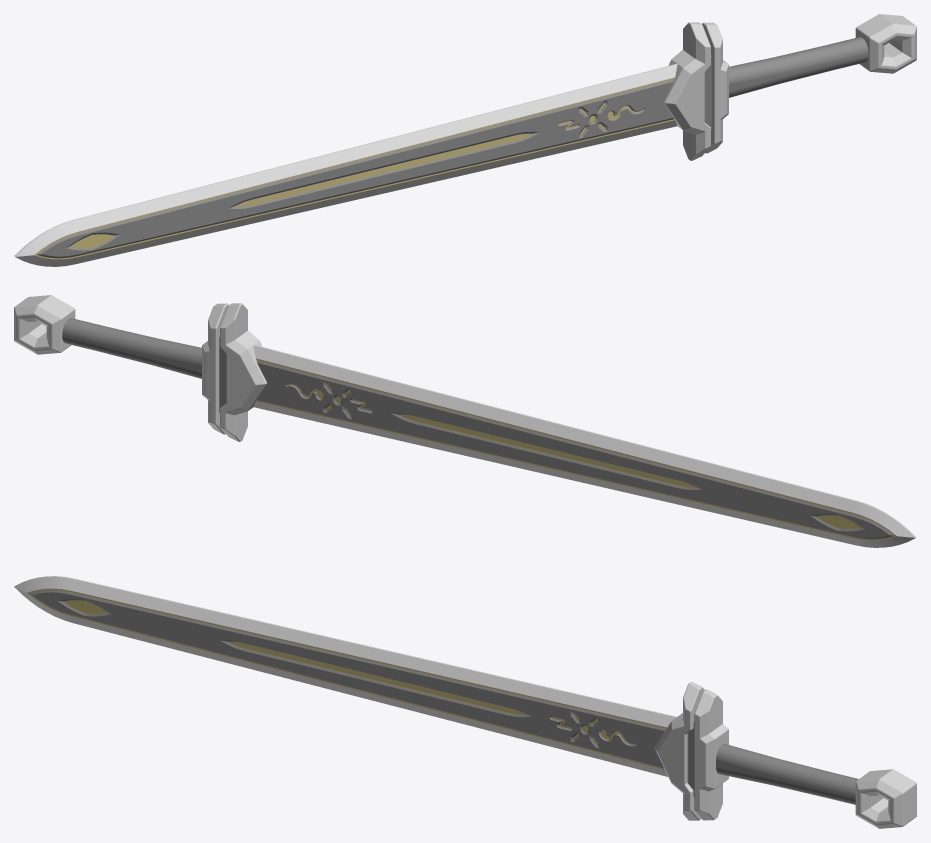
Rendered from 112_inch_scale_sword_a.glb.
3 renders of one model, top to bottom at view 1: azimuth 30°, elevation 25°; view 2: azimuth 150°, elevation 25°; view 3: azimuth 330°, elevation 25°, orthographic.
Parts seen in each view (by area): view 1: Object_6, Object_4, Object_2, Object_5, Object_3; view 2: Object_6, Object_4, Object_2, Object_5, Object_3; view 3: Object_6, Object_4, Object_2, Object_5, Object_3.
Boxes of the visible parts, box(x1,y1,x2,y2) form: Object_6: box(36, 79, 674, 258); Object_4: box(14, 63, 677, 266); Object_2: box(663, 14, 916, 160); Object_5: box(34, 77, 674, 259); Object_3: box(704, 37, 868, 131); Object_6: box(256, 360, 894, 539); Object_4: box(253, 344, 916, 547); Object_2: box(14, 295, 267, 441); Object_5: box(256, 358, 896, 540); Object_3: box(62, 318, 226, 412); Object_6: box(30, 589, 666, 768); Object_4: box(14, 576, 676, 776); Object_2: box(654, 682, 916, 828); Object_5: box(27, 588, 666, 769); Object_3: box(688, 721, 858, 804).
Size of the model in its own units: 1.3 by 0.1905 by 0.0521.
